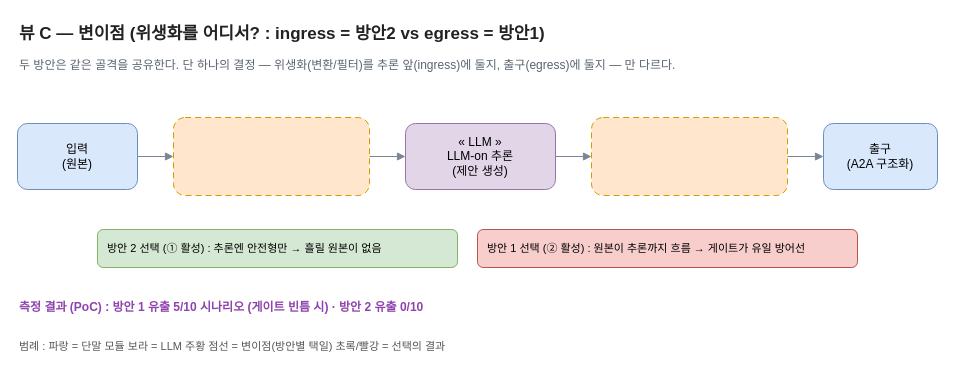
This 955x372 diagram has some shape labels left out. The centre of each missing label's shape, as x and y in pixels:
"« variation point » 방안 1 : Filter @ egress 출구에서 거름" goes at [689,156].
"« variation point » 방안 2 : Transform @ ingress 원본 → 안전형" goes at [271,156].
